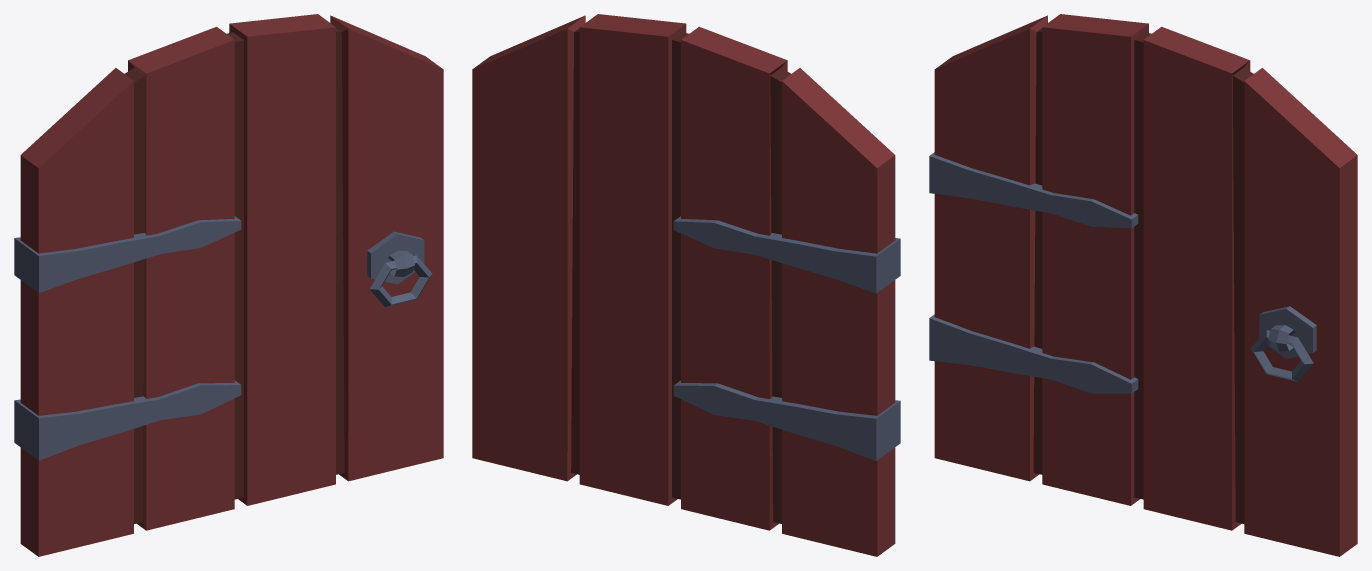
Rendered from door.fbx.
3 renders of one model, left to right at view 1: azimuth 30°, elevation 25°; view 2: azimuth 150°, elevation 25°; view 3: azimuth 330°, elevation 25°, orthographic.
Parts seen in each view (by area): view 1: door.004; view 2: door.004; view 3: door.004.
Boxes of the visible parts, x1,y1,x2,y2 form: door.004: (14, 14, 443, 556); door.004: (472, 14, 900, 556); door.004: (929, 14, 1357, 556).
Bounding box in the file's own units: 100 × 15 × 110.
